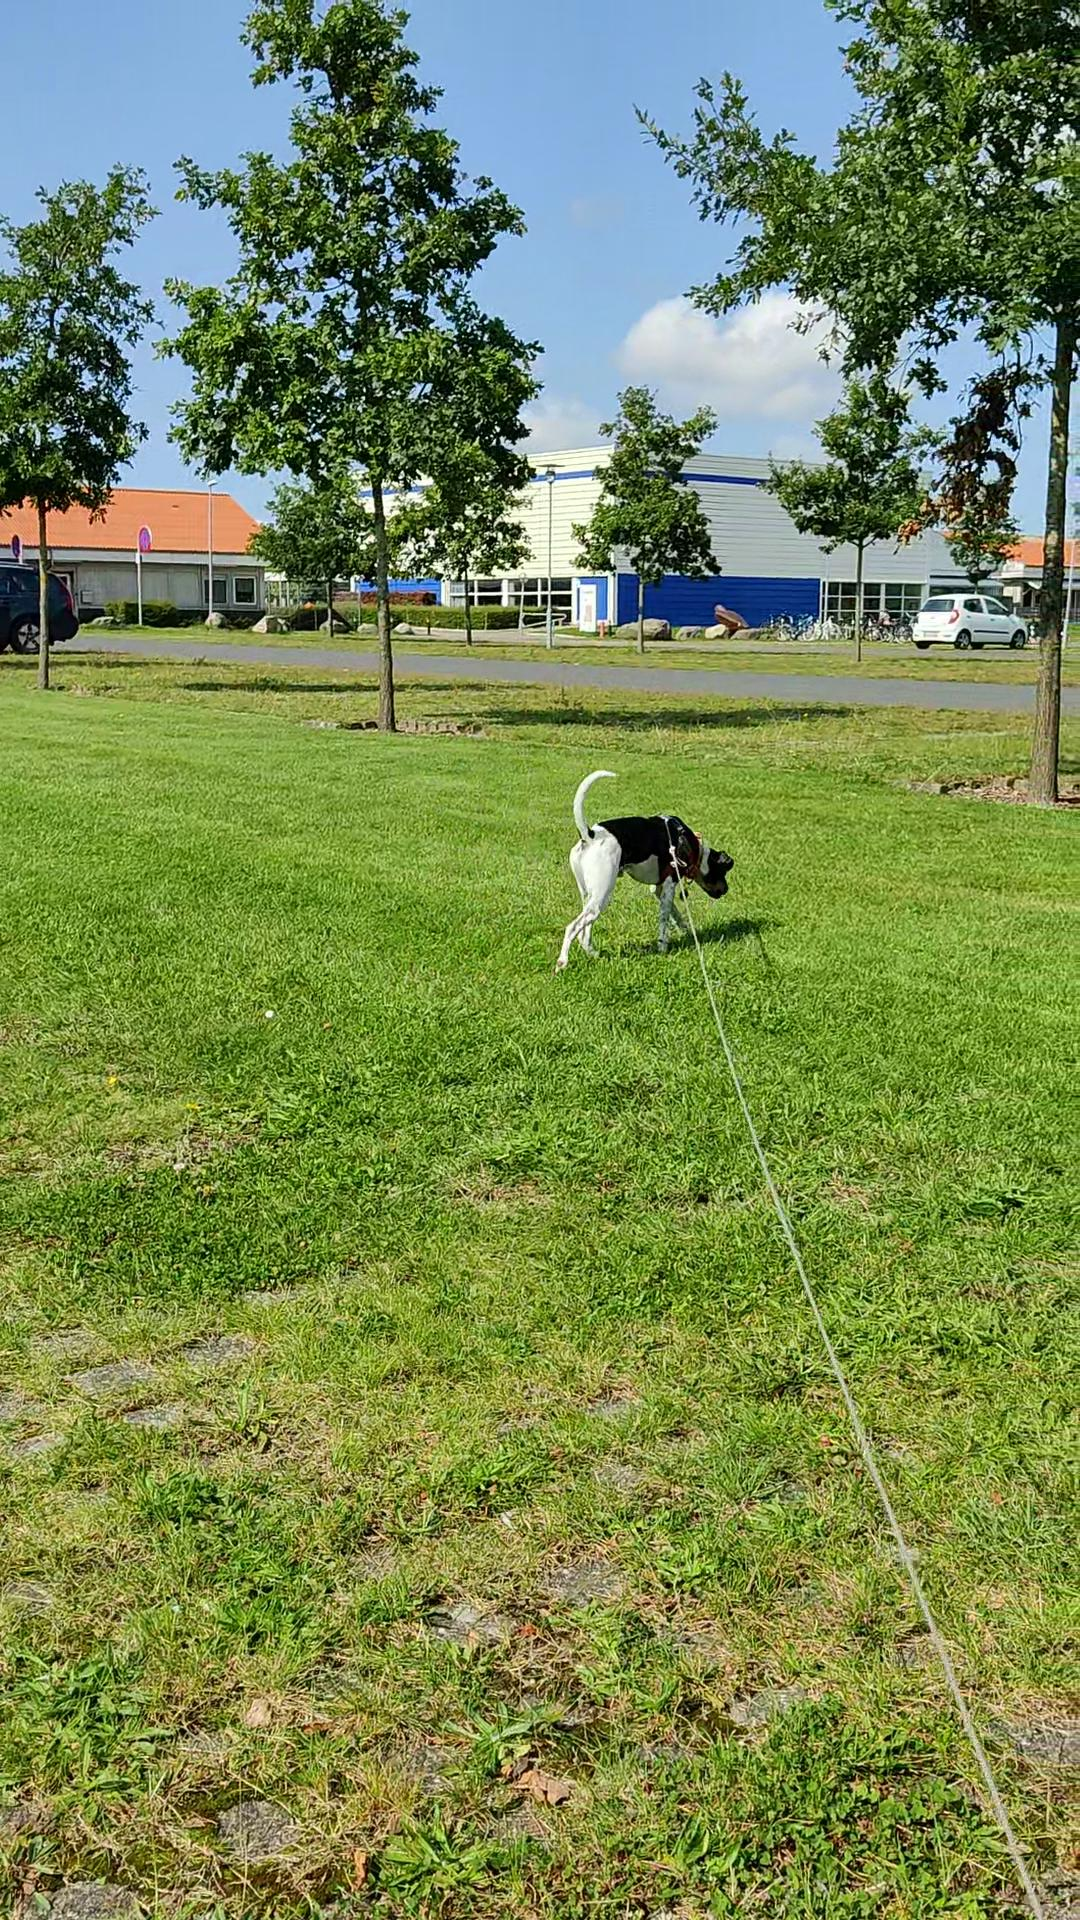Dog: (553, 767, 735, 975)
